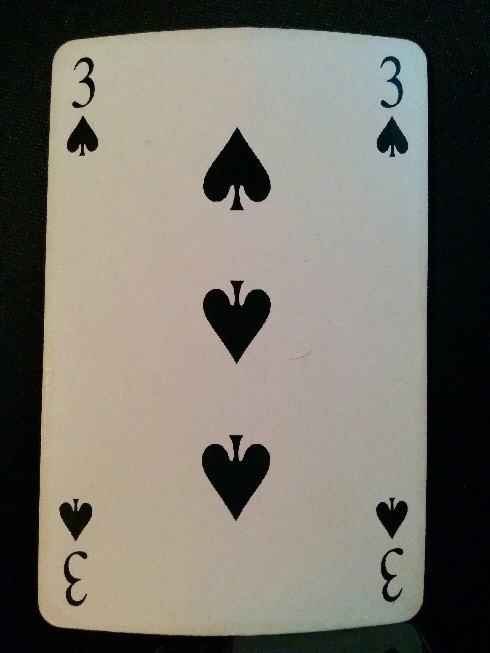S3: (54, 491, 96, 608), (369, 46, 411, 163), (371, 487, 412, 604), (64, 54, 100, 158)
